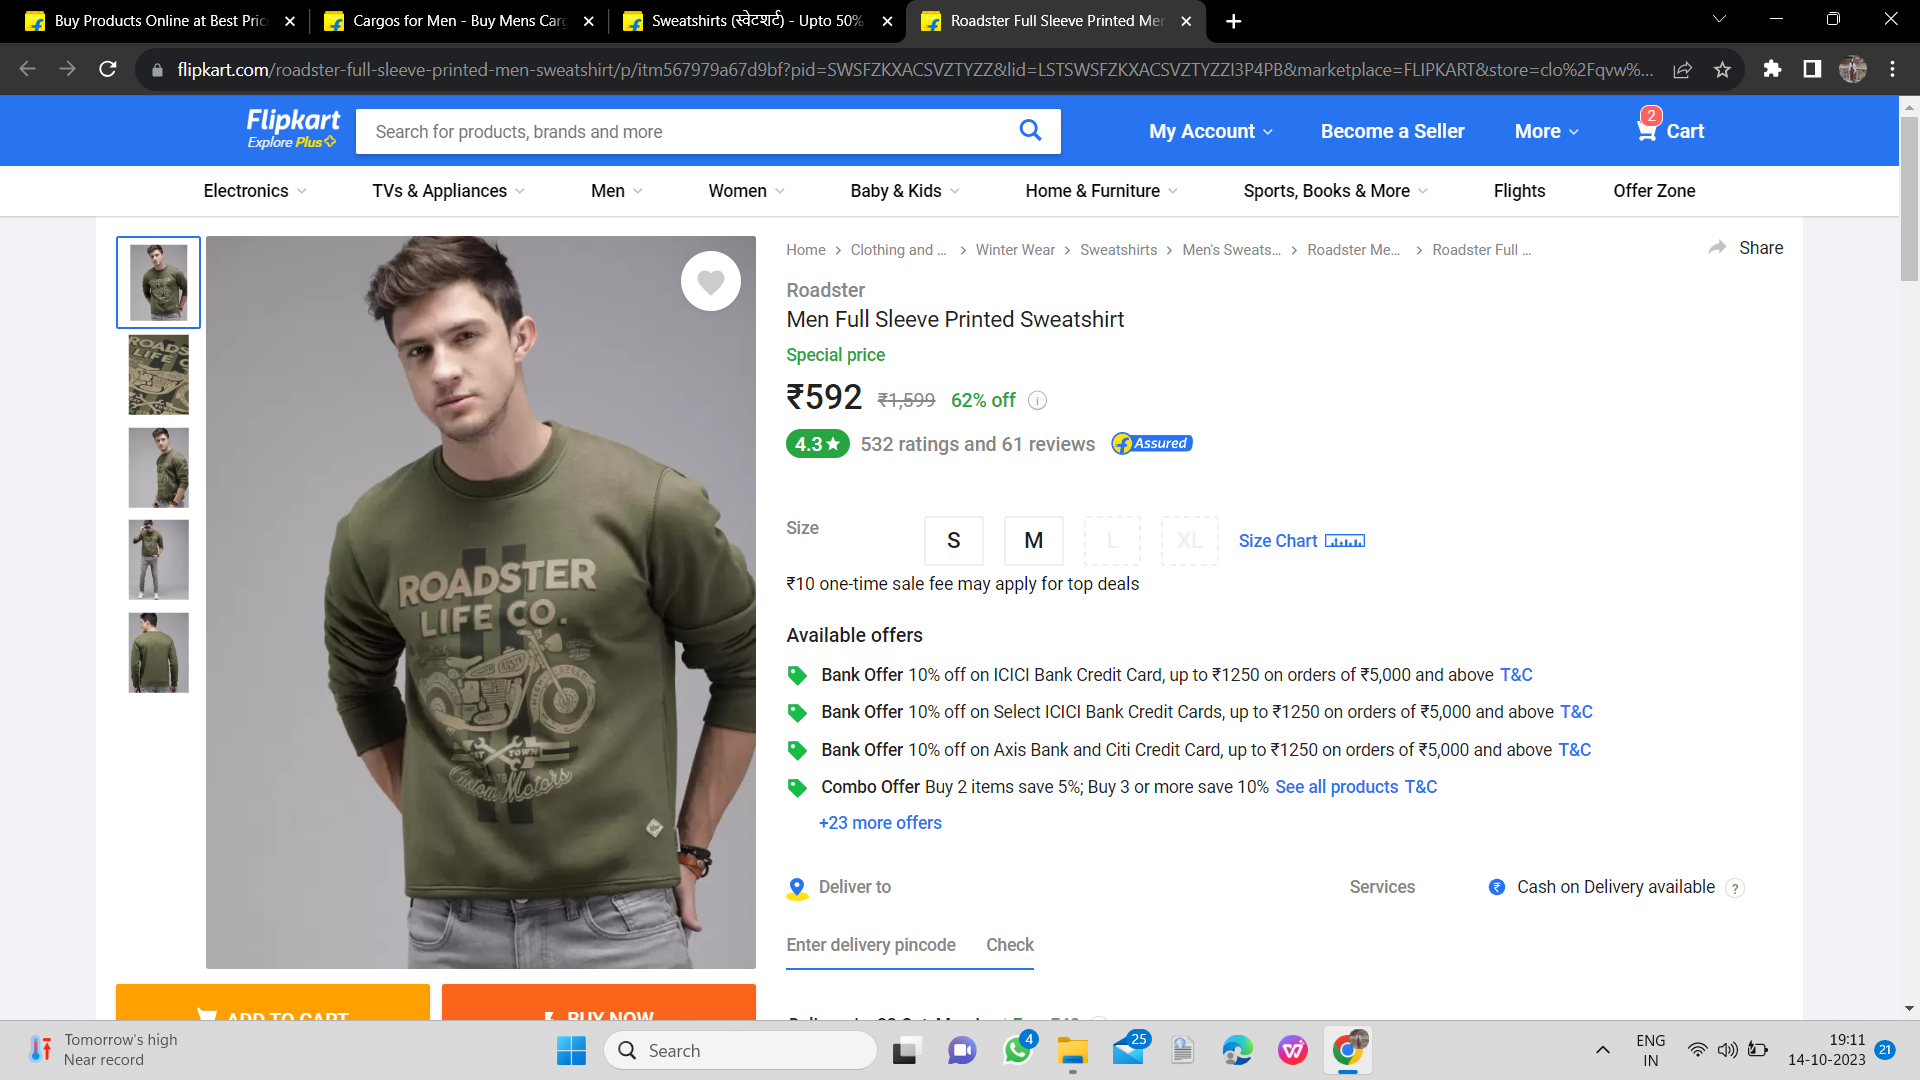Image: (211, 245, 757, 926)
Paragraph: (774, 665, 1605, 832), (787, 506, 1377, 566), (1135, 95, 1726, 153), (777, 878, 1059, 975), (1327, 869, 1716, 919), (779, 281, 1129, 336), (770, 349, 1018, 418), (774, 427, 1200, 462), (767, 570, 1150, 597), (787, 615, 923, 647)
